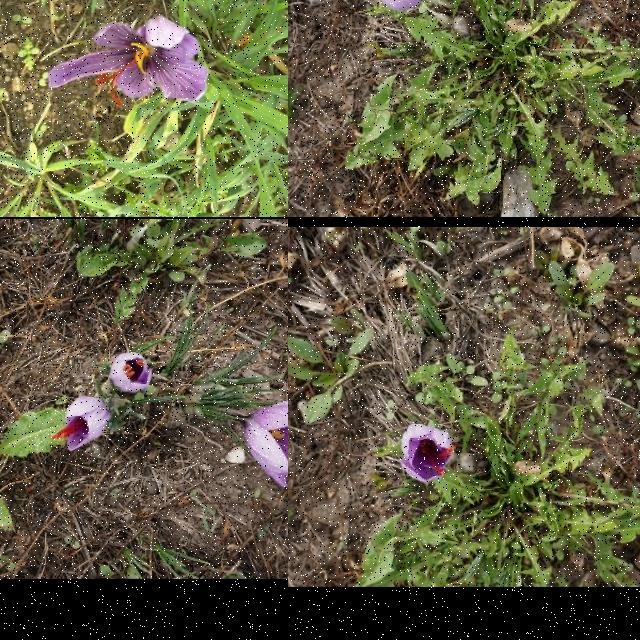flower: (49, 17, 208, 107), (241, 382, 288, 492), (51, 396, 111, 452), (400, 424, 454, 486), (108, 351, 152, 391)
